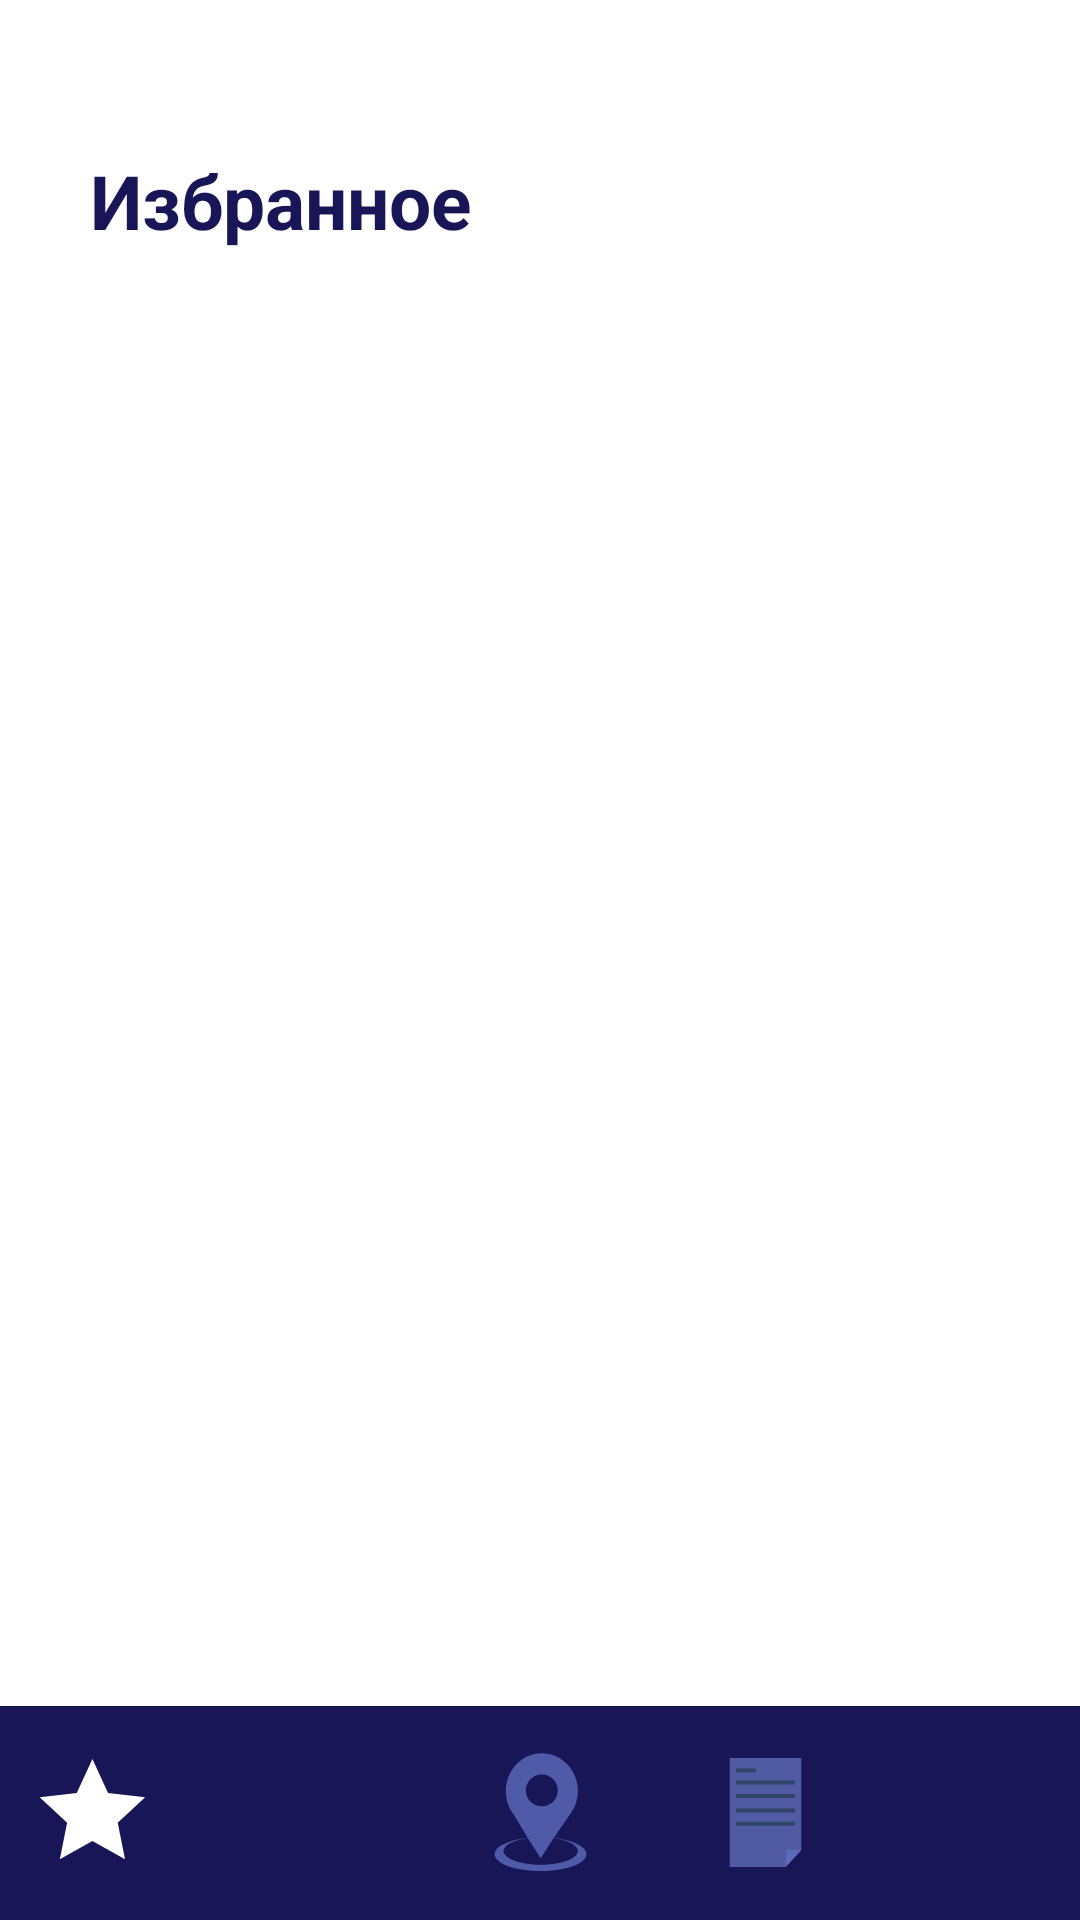

Named icons in this screenshot (1080px×1920px) and their centers, (x=x, y=y):
favorites: (x=92, y=1809)
list: (x=765, y=1812)
map: (x=540, y=1812)
